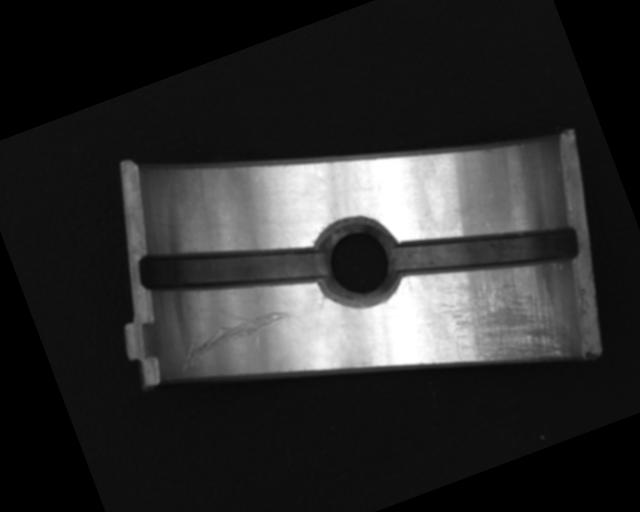gap: (133, 197, 331, 341), (387, 187, 585, 319)
hole: (305, 208, 410, 316)
nick: (163, 285, 299, 376)
scratch: (434, 247, 583, 395)
